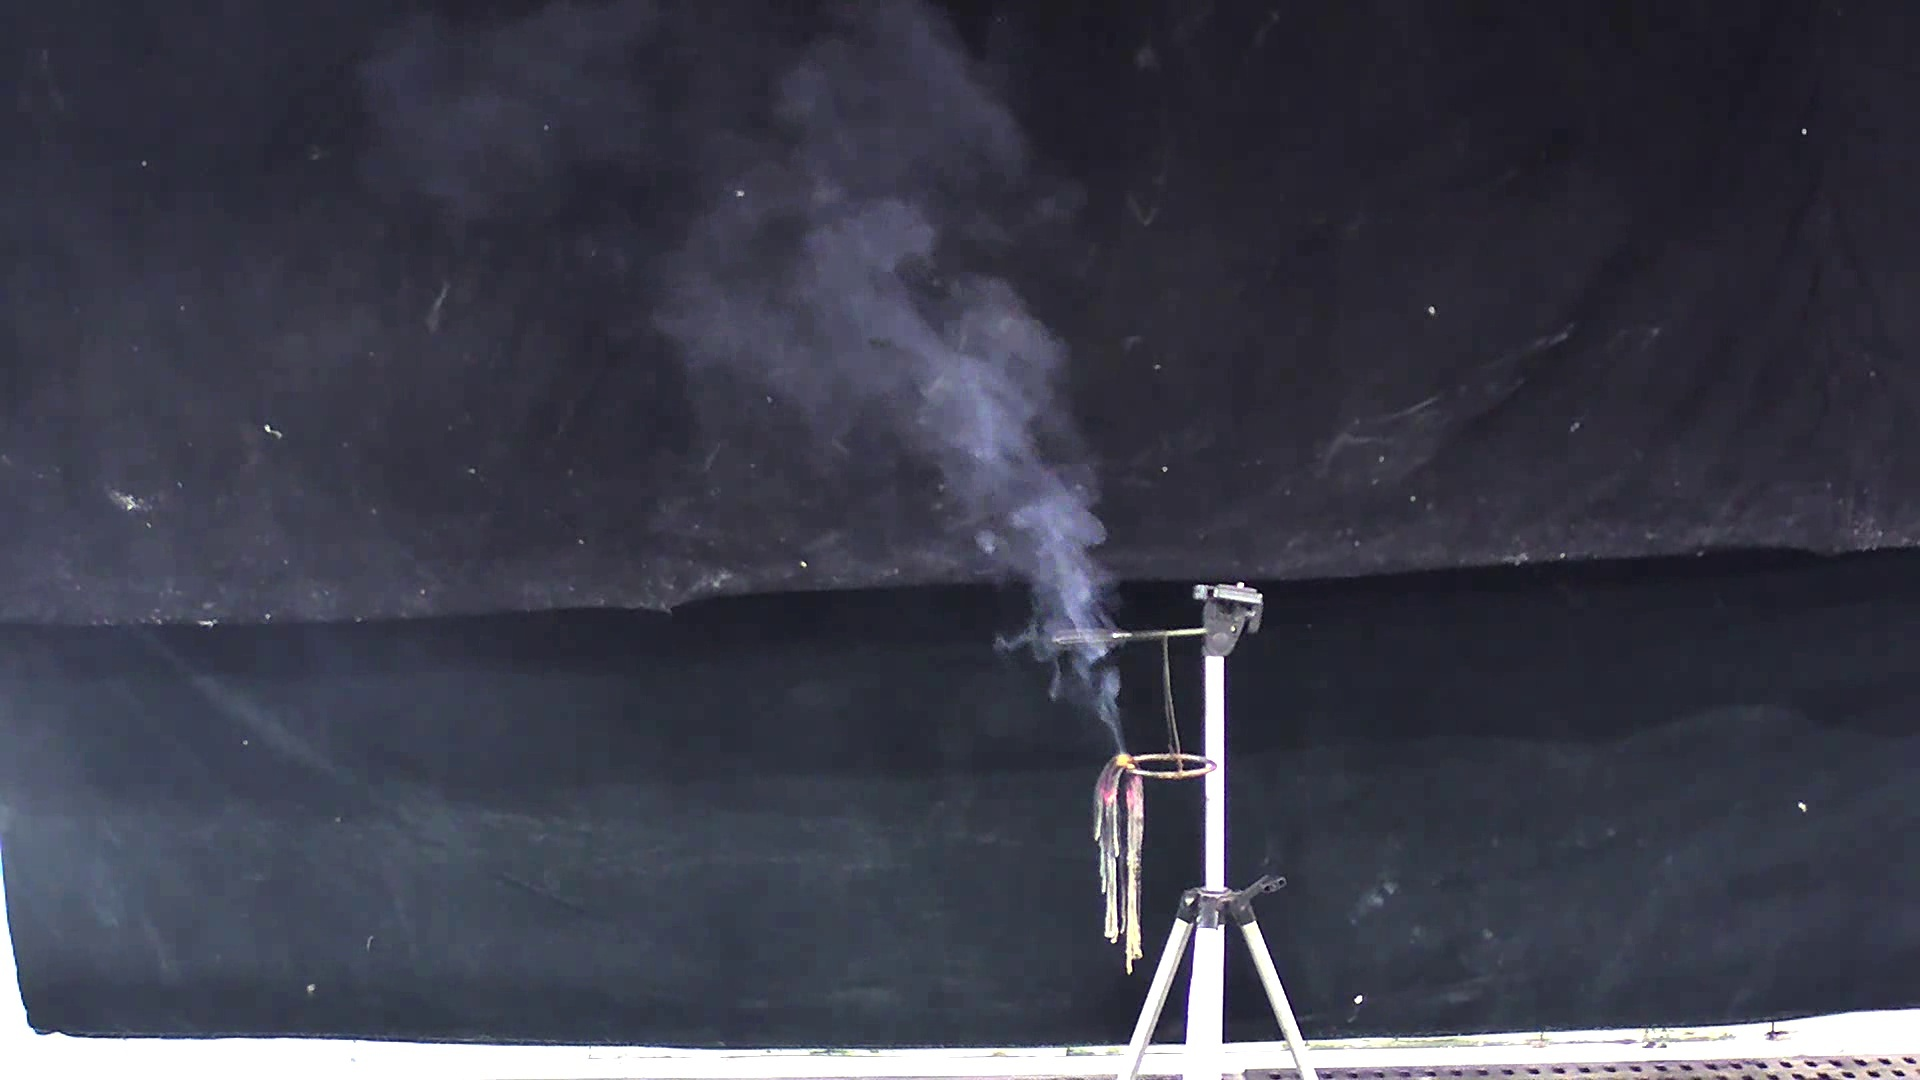smoke: (667, 13, 1150, 756)
